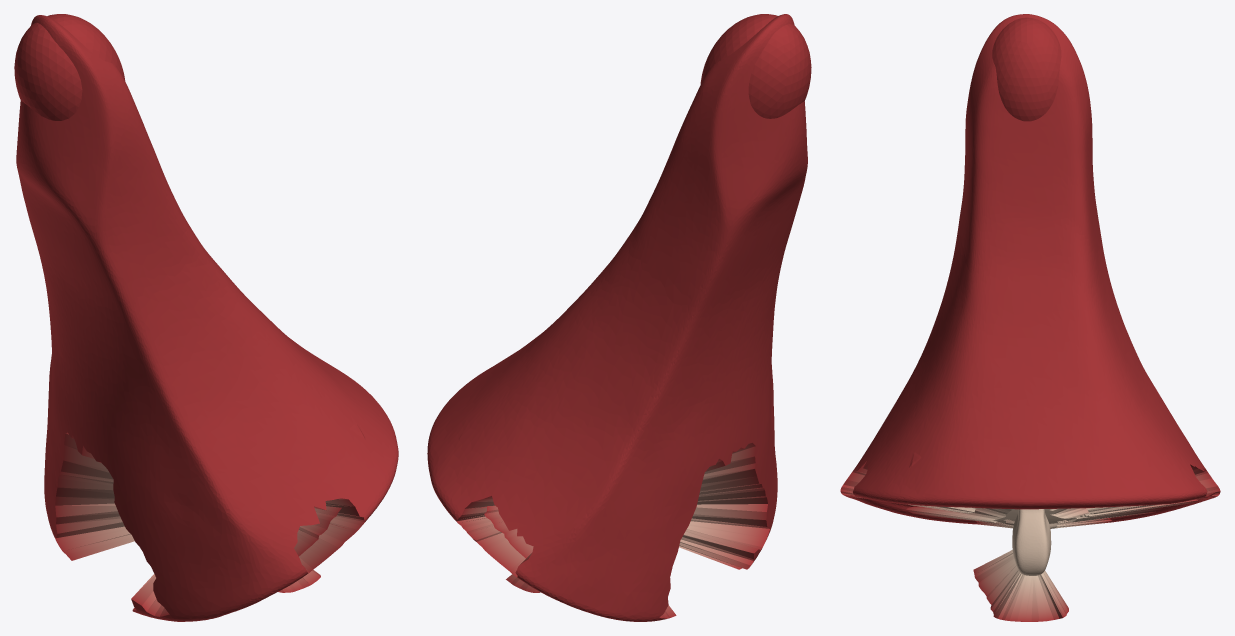
File: arm_L.glb
The picture shows the model from 3 angles, left to right: view 1: azimuth 30°, elevation 25°; view 2: azimuth 150°, elevation 25°; view 3: azimuth 270°, elevation 25°; orthographic projection. The views are drawn at different scales.
Visible parts, largest first — view 1: geometry_0; view 2: geometry_0; view 3: geometry_0.
Boxes of the visible parts, x1,y1,x2,y2 form: geometry_0: [14, 14, 398, 621]; geometry_0: [427, 14, 811, 621]; geometry_0: [840, 14, 1220, 621].
Bounding box in the file's own units: 0.3514 × 0.6166 × 0.4163.
